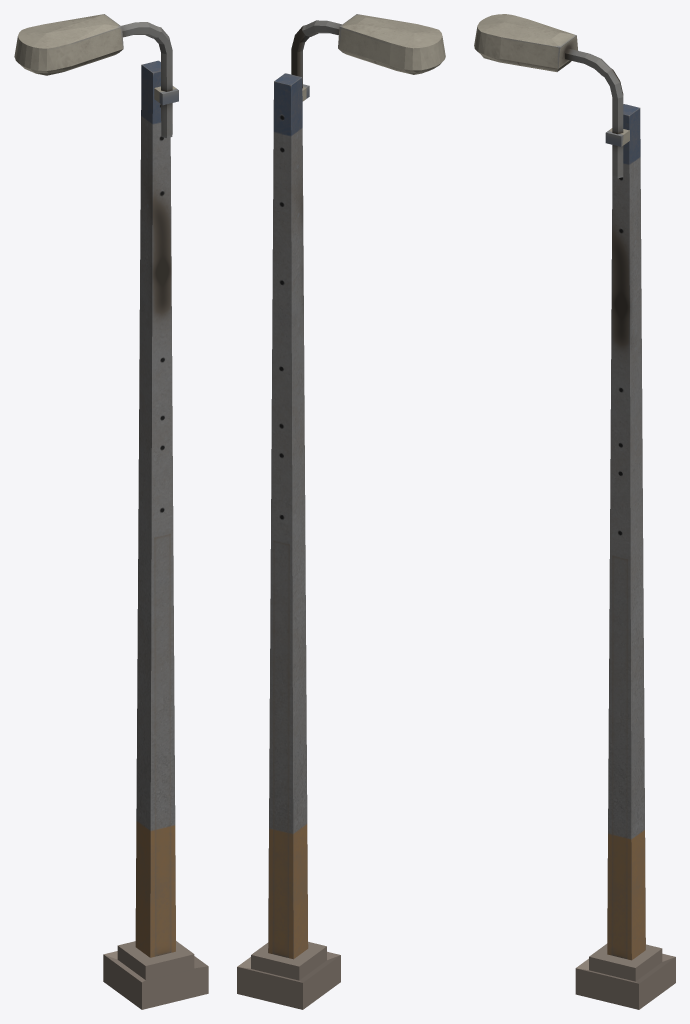
The model's file is Pole.fbx.
The picture shows the model from 3 angles, left to right: view 1: azimuth 30°, elevation 25°; view 2: azimuth 150°, elevation 25°; view 3: azimuth 330°, elevation 25°; orthographic projection. The views are drawn at different scales.
Visible parts, largest first — view 1: Pole, Light, Supporter; view 2: Pole, Light, Supporter; view 3: Pole, Light, Supporter.
Part boxes in pixels (<box>): Pole: <box>103,60,208,1009</box>; Light: <box>14,14,123,75</box>; Supporter: <box>121,22,172,137</box>; Pole: <box>237,73,340,1009</box>; Light: <box>338,14,445,74</box>; Supporter: <box>291,20,341,88</box>; Pole: <box>575,104,675,1009</box>; Light: <box>474,14,578,71</box>; Supporter: <box>565,48,623,178</box>.
Bounding box in the file's own units: 0.8469 × 4.49 × 0.3541.
Materials: 1 (1 with a texture image).
